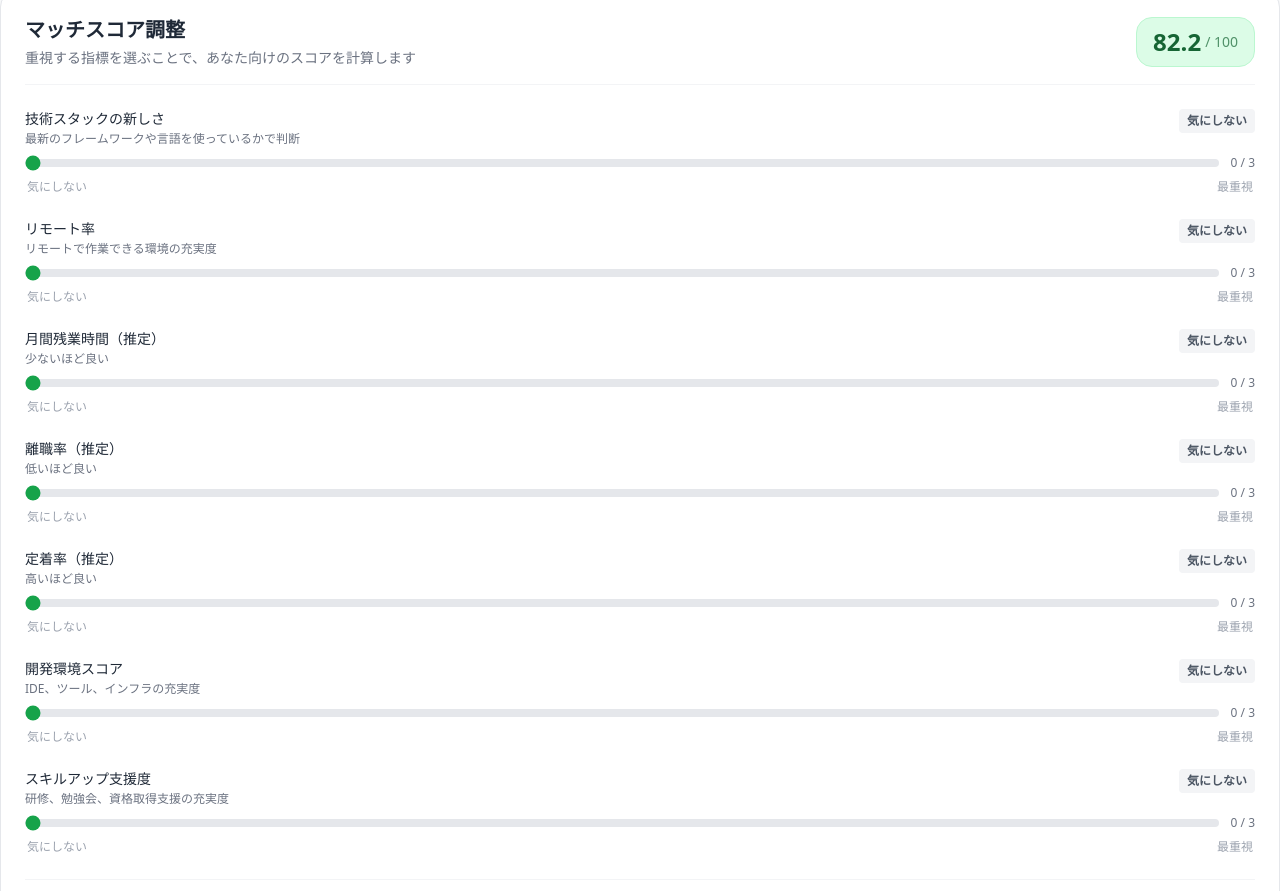
Test: PersonalScoreAdjuster › リセットボタン機能 › リセットボタンクリック時に全スライダーが0にリセットされる
# Set some values
Set the slider labelled "技術スタックの新しさ" to "2" at (818, 163), box [25, 159, 1218, 167]
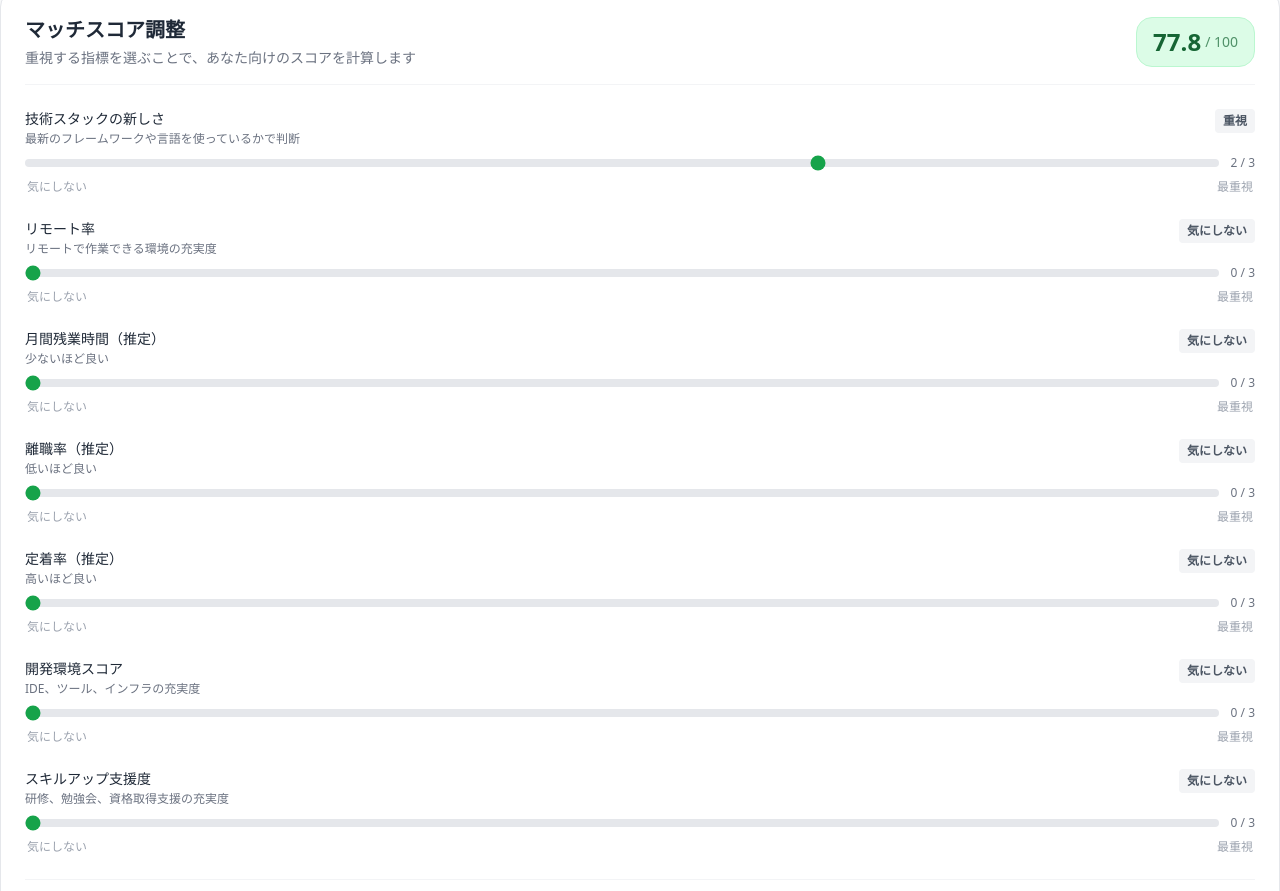
Set the slider labelled "リモート率" to "3" at (1210, 273), box [25, 269, 1218, 277]
(page scrolled)
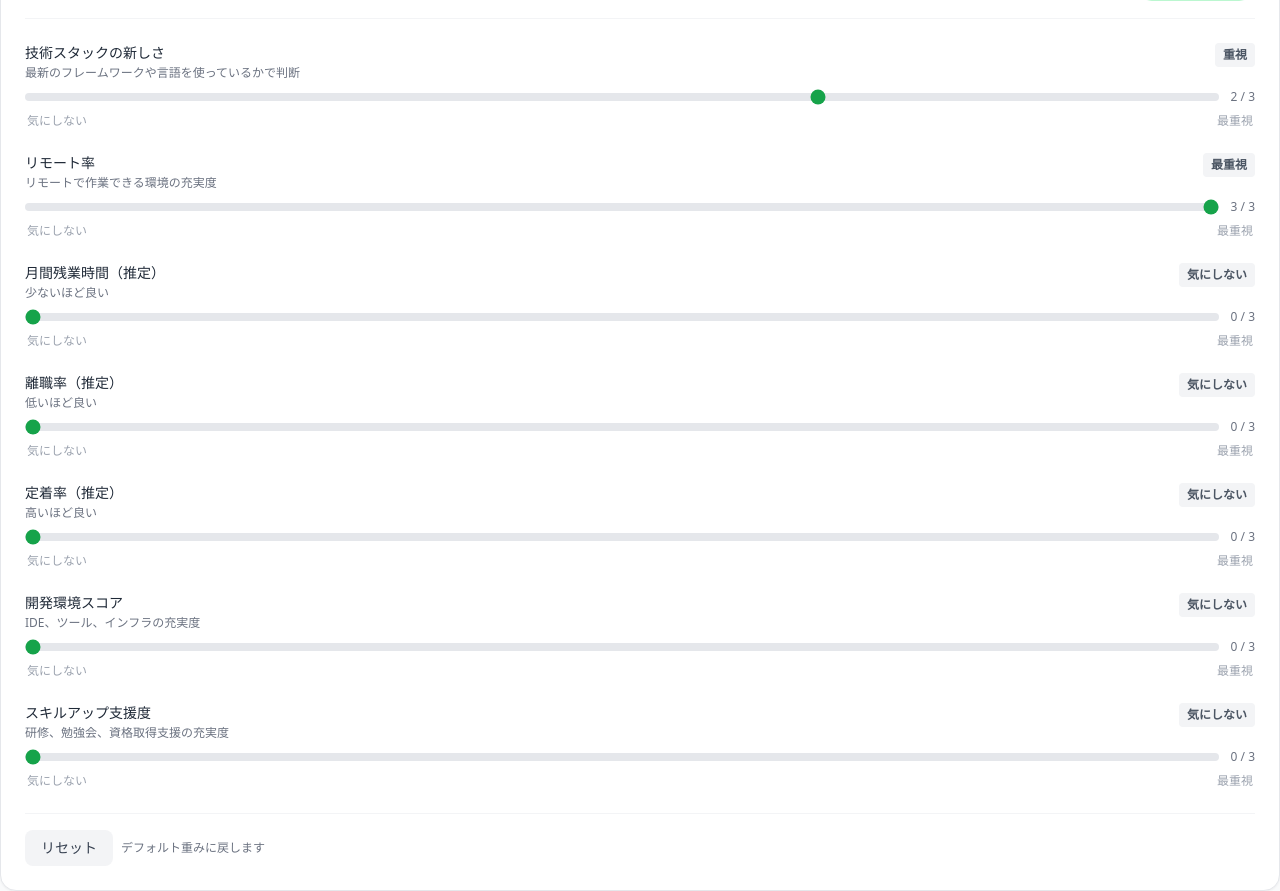
# Click reset button
Click the button "リセット" at (69, 848), box [25, 830, 113, 866]
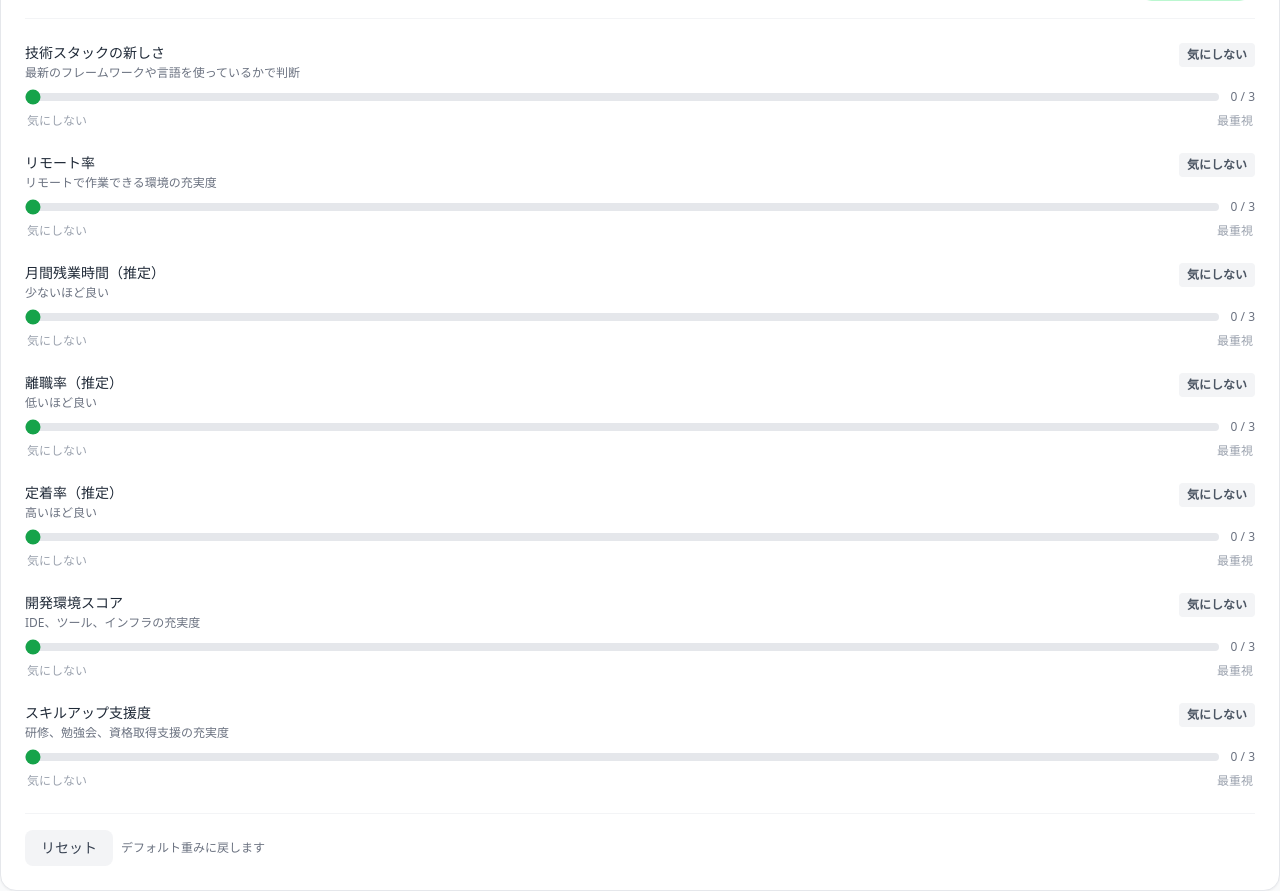
Expected: the slider labelled "技術スタックの新しさ" holds "0", [25, 93, 1218, 101]
Expected: the slider labelled "リモート率" holds "0", [25, 203, 1218, 211]
